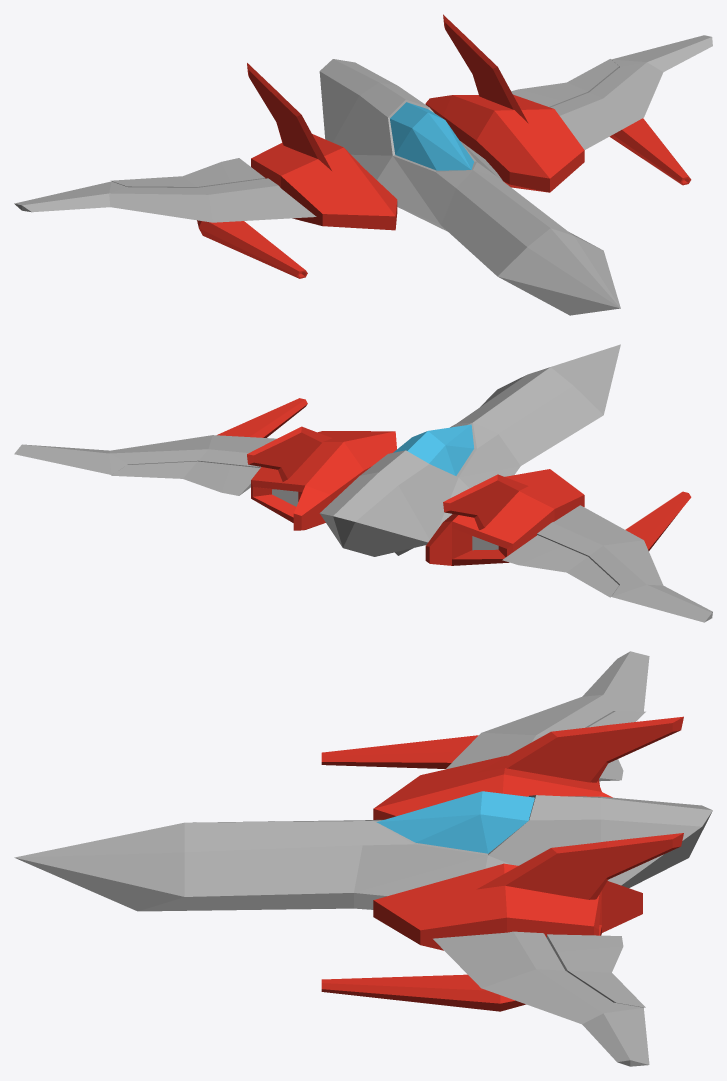
File: ship.fbx
3 renders of one model, top to bottom at view 1: azimuth 30°, elevation 25°; view 2: azimuth 150°, elevation 25°; view 3: azimuth 270°, elevation 25°, orthographic. The views are drawn at different scales.
Visible parts, largest first — view 1: ship, guns, flaps; view 2: ship, flaps, guns; view 3: ship, guns, flaps.
Boxes of the visible parts, left/top/right/bottom form: ship: left=14, top=14, right=712, bottom=315; guns: left=197, top=118, right=691, bottom=278; flaps: left=111, top=59, right=619, bottom=187; ship: left=14, top=344, right=712, bottom=622; flaps: left=111, top=461, right=618, bottom=597; guns: left=217, top=398, right=691, bottom=550; ship: left=14, top=651, right=712, bottom=1066; guns: left=321, top=735, right=525, bottom=1011; flaps: left=547, top=711, right=645, bottom=1007.
Size of the model in its own units: 1847 by 300 by 1334.
